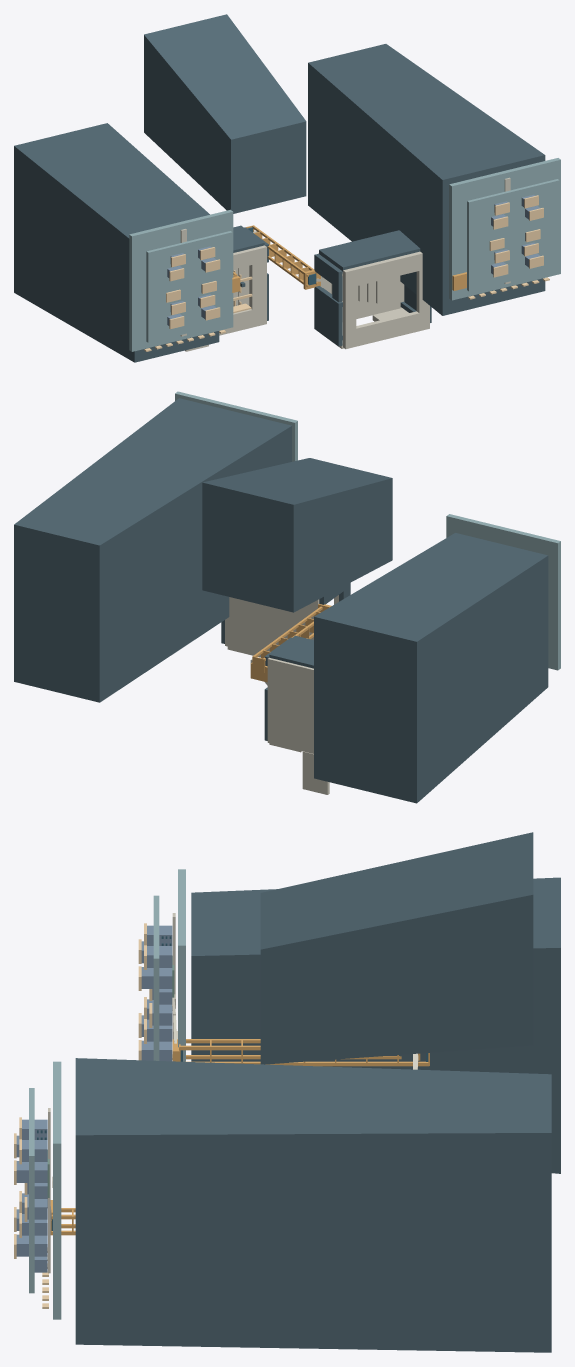
File: M3D1S_J5_LOCAL_REPAIRED.obj
The picture shows the model from 3 angles, top to bottom: view 1: azimuth 30°, elevation 25°; view 2: azimuth 150°, elevation 25°; view 3: azimuth 270°, elevation 25°; orthographic projection. The views are drawn at different scales.
Visible parts, largest first — view 1: EAST_CITY_MASS, WEST_CITY_MASS, NORTH_DIAGONAL_CITY_SUPPORT, EAST_LIVING_TERRACE_LEVEL_2, WEST_LIVING_TERRACE_LEVEL_2, WEST_LIVING_TERRACE_MAIN_FLOOR, EAST_LIVING_TERRACE_MAIN_FLOOR, P2_NORTH_WALL, P2_ROOF_S, P2_ROOF_N, P2_WEST_WALL_SOUTH, P2_CIVIC_FLOOR (+6 smaller); view 2: EAST_CITY_MASS, WEST_CITY_MASS, NORTH_DIAGONAL_CITY_SUPPORT, P1_CIVIC_FLOOR, WEST_LIVING_TERRACE_MAIN_FLOOR, P2_CIVIC_FLOOR, EAST_LIVING_TERRACE_MAIN_FLOOR, P1_NORTH_WALL_EAST, P1_PUBLIC_APPROACH; view 3: EAST_CITY_MASS, NORTH_DIAGONAL_CITY_SUPPORT, WEST_CITY_MASS, EAST_LIVING_TERRACE_MAIN_FLOOR, WEST_LIVING_TERRACE_MAIN_FLOOR, EAST_LIVING_TERRACE_LEVEL_2, WEST_LIVING_TERRACE_LEVEL_2, LIFT_W_COLUMN_1_-1.
Boxes of the visible parts, <box> form: EAST_CITY_MASS: <box>308,44,545,315</box>; WEST_CITY_MASS: <box>14,123,219,362</box>; NORTH_DIAGONAL_CITY_SUPPORT: <box>144,14,306,213</box>; EAST_LIVING_TERRACE_LEVEL_2: <box>467,179,559,291</box>; WEST_LIVING_TERRACE_LEVEL_2: <box>146,231,232,342</box>; WEST_LIVING_TERRACE_MAIN_FLOOR: <box>129,209,233,351</box>; EAST_LIVING_TERRACE_MAIN_FLOOR: <box>449,158,560,300</box>; P2_NORTH_WALL: <box>319,230,420,271</box>; P2_ROOF_S: <box>343,311,429,349</box>; P2_ROOF_N: <box>343,251,422,288</box>; P2_WEST_WALL_SOUTH: <box>314,286,342,346</box>; P2_CIVIC_FLOOR: <box>318,253,404,321</box>; EAST_CITY_MASS: <box>14,398,291,702</box>; WEST_CITY_MASS: <box>314,533,548,803</box>; NORTH_DIAGONAL_CITY_SUPPORT: <box>202,458,392,612</box>; P1_CIVIC_FLOOR: <box>267,657,313,753</box>; WEST_LIVING_TERRACE_MAIN_FLOOR: <box>446,514,560,670</box>; P2_CIVIC_FLOOR: <box>225,597,319,653</box>; EAST_LIVING_TERRACE_MAIN_FLOOR: <box>175,391,297,461</box>; P1_NORTH_WALL_EAST: <box>269,635,313,668</box>; P1_PUBLIC_APPROACH: <box>302,751,329,794</box>; EAST_CITY_MASS: <box>75,1058,551,1352</box>; NORTH_DIAGONAL_CITY_SUPPORT: <box>260,832,533,1064</box>; WEST_CITY_MASS: <box>191,877,560,1173</box>; EAST_LIVING_TERRACE_MAIN_FLOOR: <box>53,1061,61,1319</box>; WEST_LIVING_TERRACE_MAIN_FLOOR: <box>178,869,185,1061</box>; EAST_LIVING_TERRACE_LEVEL_2: <box>29,1088,34,1293</box>; WEST_LIVING_TERRACE_LEVEL_2: <box>153,895,159,1060</box>; LIFT_W_COLUMN_1_-1: <box>185,1061,428,1066</box>.
Bounding box in the file's own units: 2990 × 2140 × 2367.
